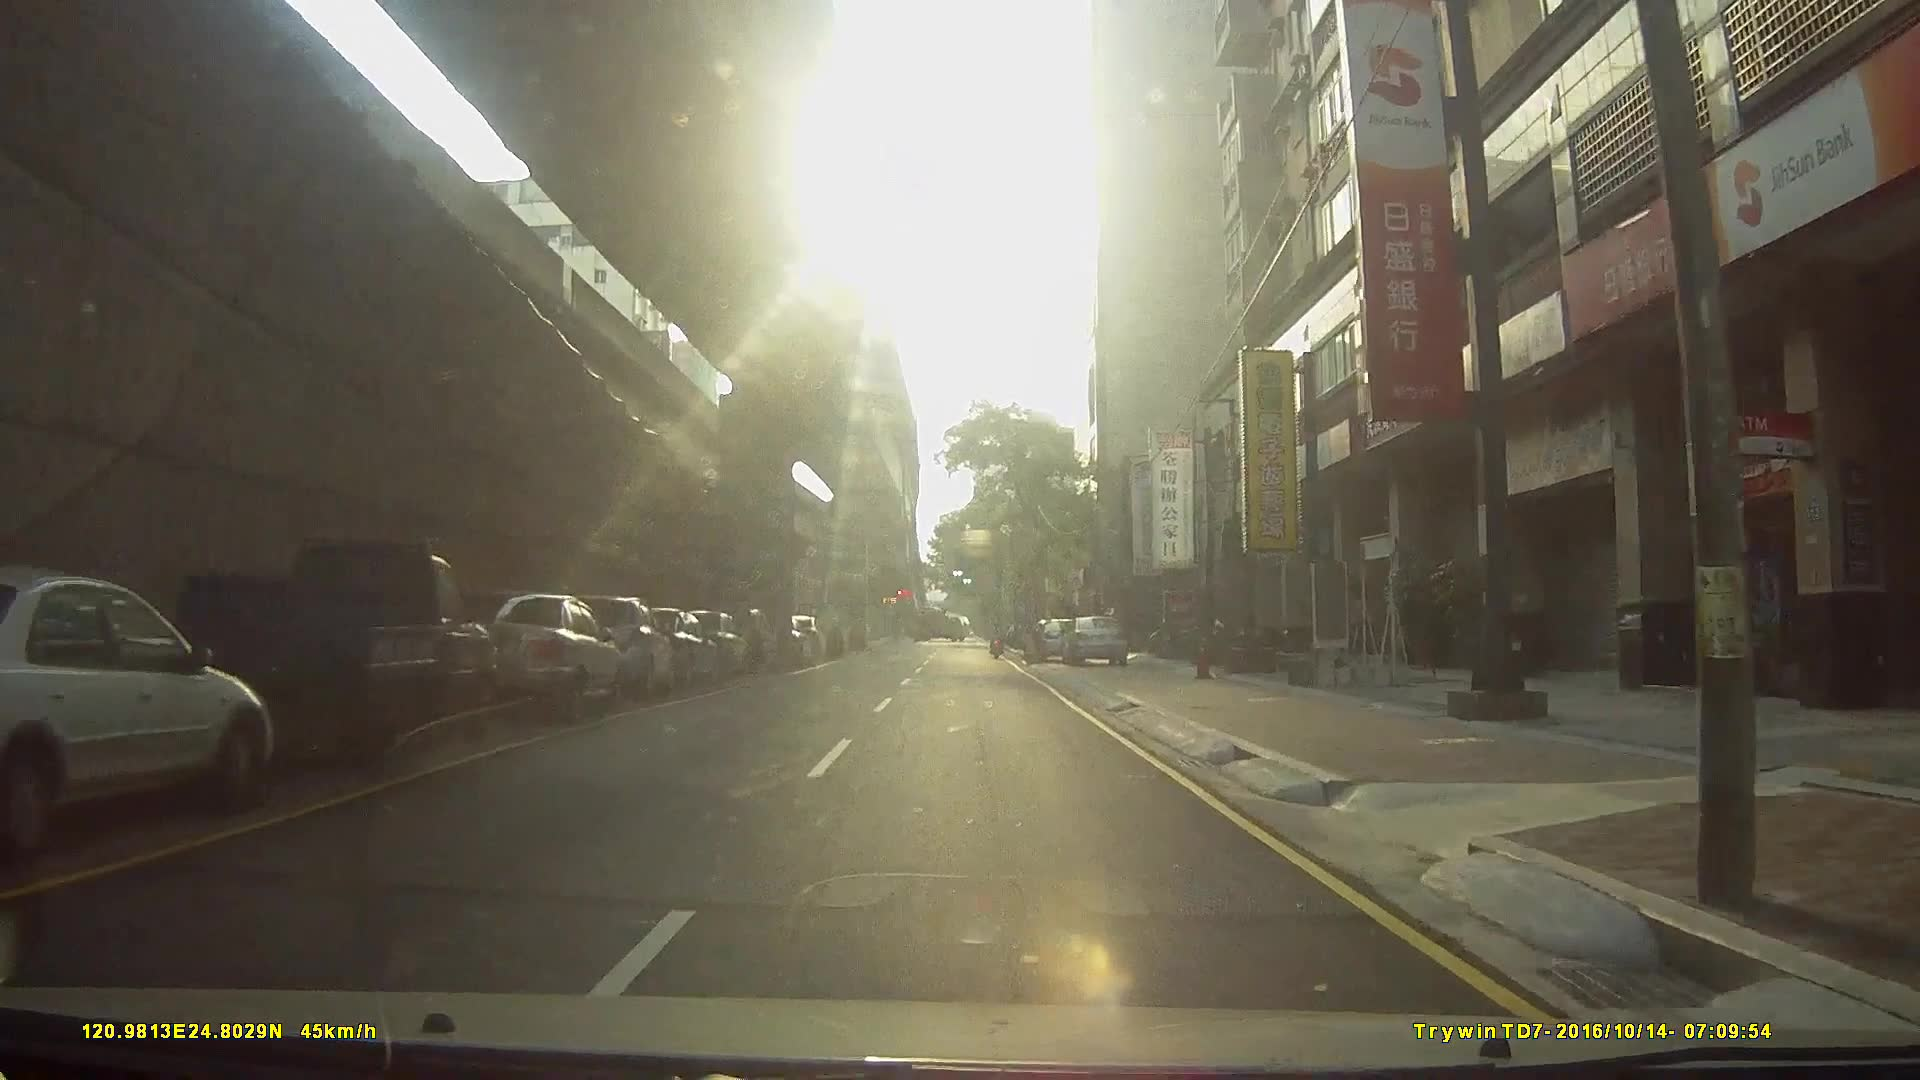vehicle: (0, 566, 276, 862), (173, 537, 498, 757), (450, 592, 626, 720), (556, 592, 676, 699), (597, 612, 729, 700), (659, 620, 794, 670), (1058, 613, 1130, 665)
